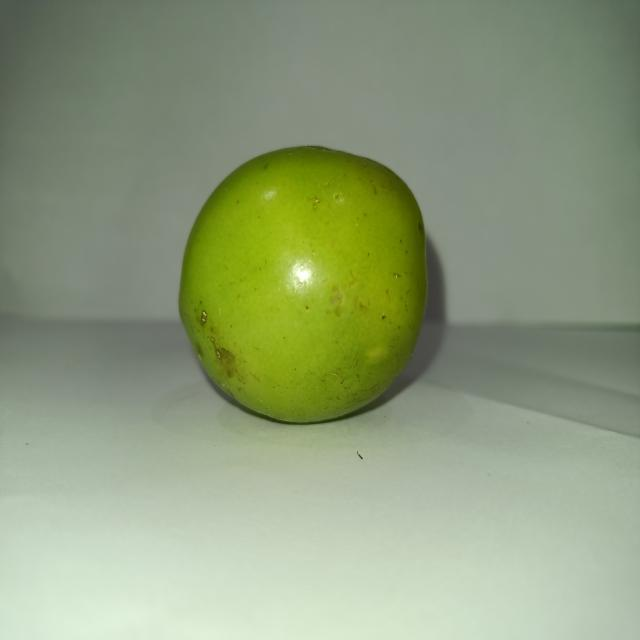Red: (176, 143, 429, 425)
